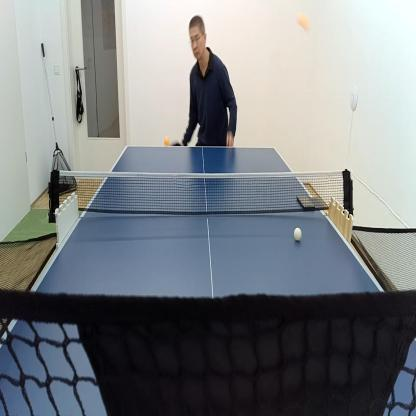Ball: (296, 14, 312, 34), (293, 225, 303, 244), (164, 134, 171, 148)
